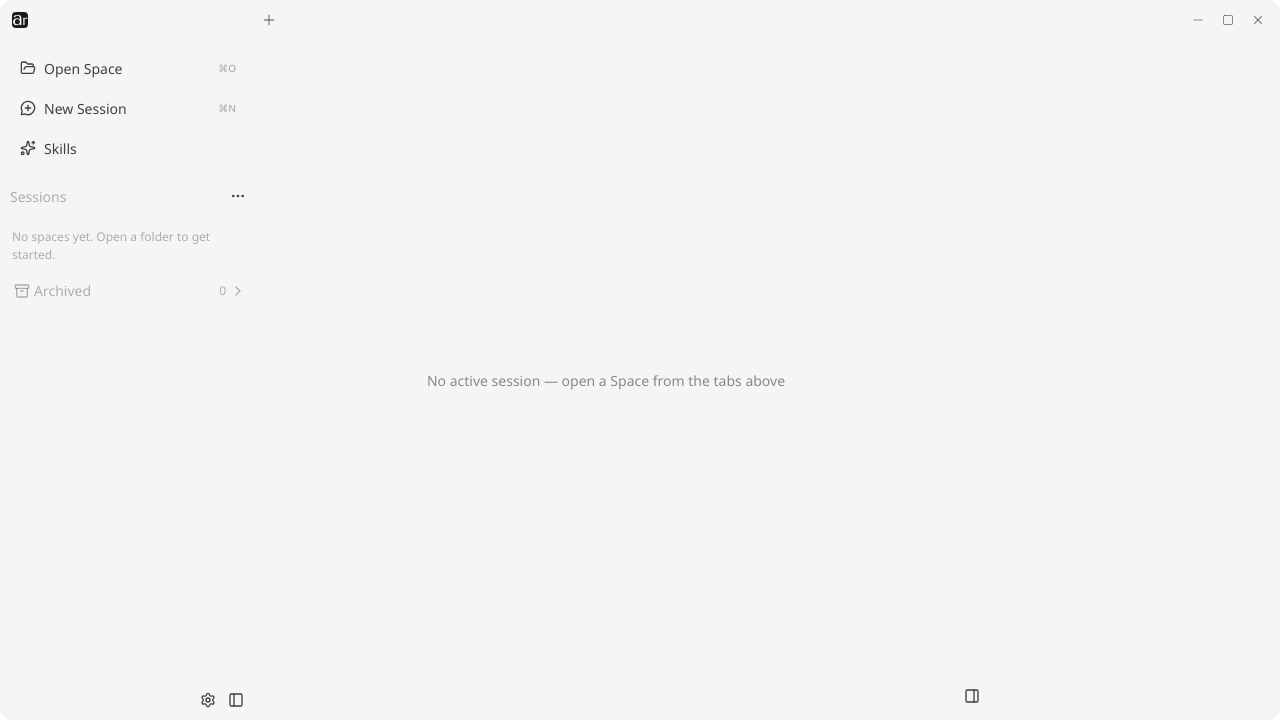
Test case: App (the gear icon + settings view swap) › the_back_button_returns_to_the_workspace
Click the button named "Settings" at (212,700), box [200,688,224,712]
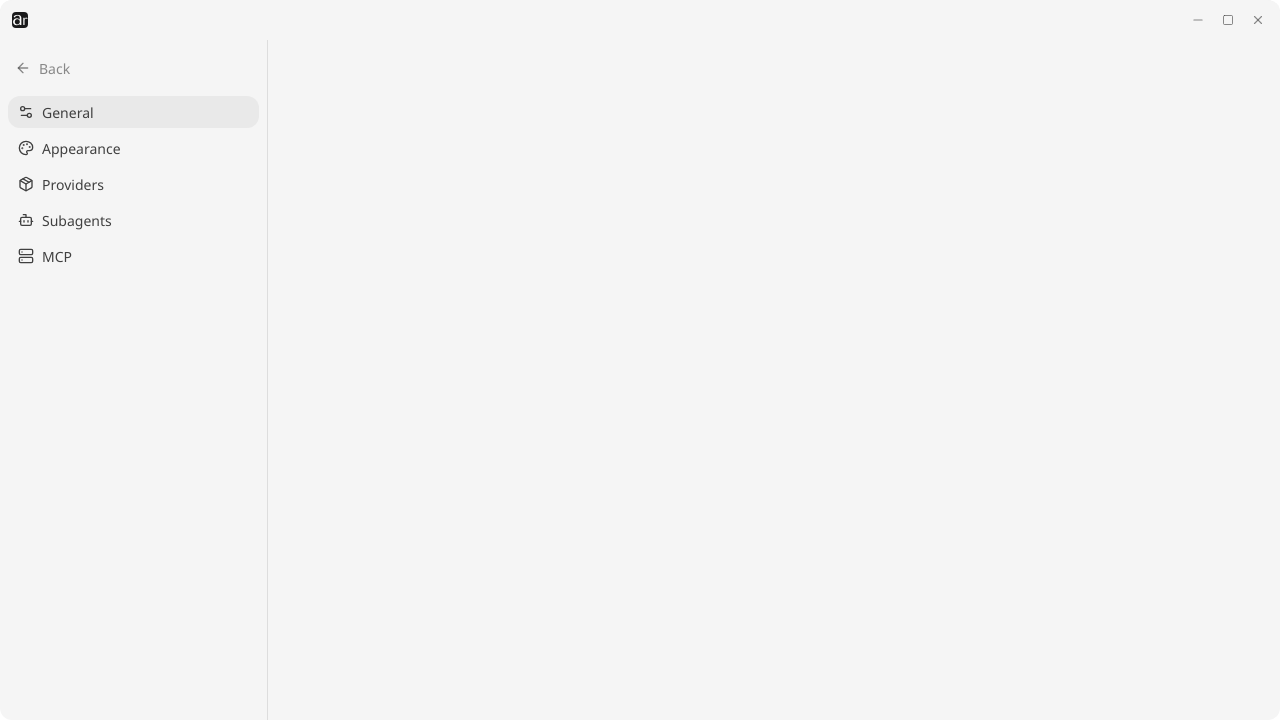
Check: the text "General" is shown, box [42,103,94,122]
Click the button "Back" at (130,68), box [8,52,251,84]
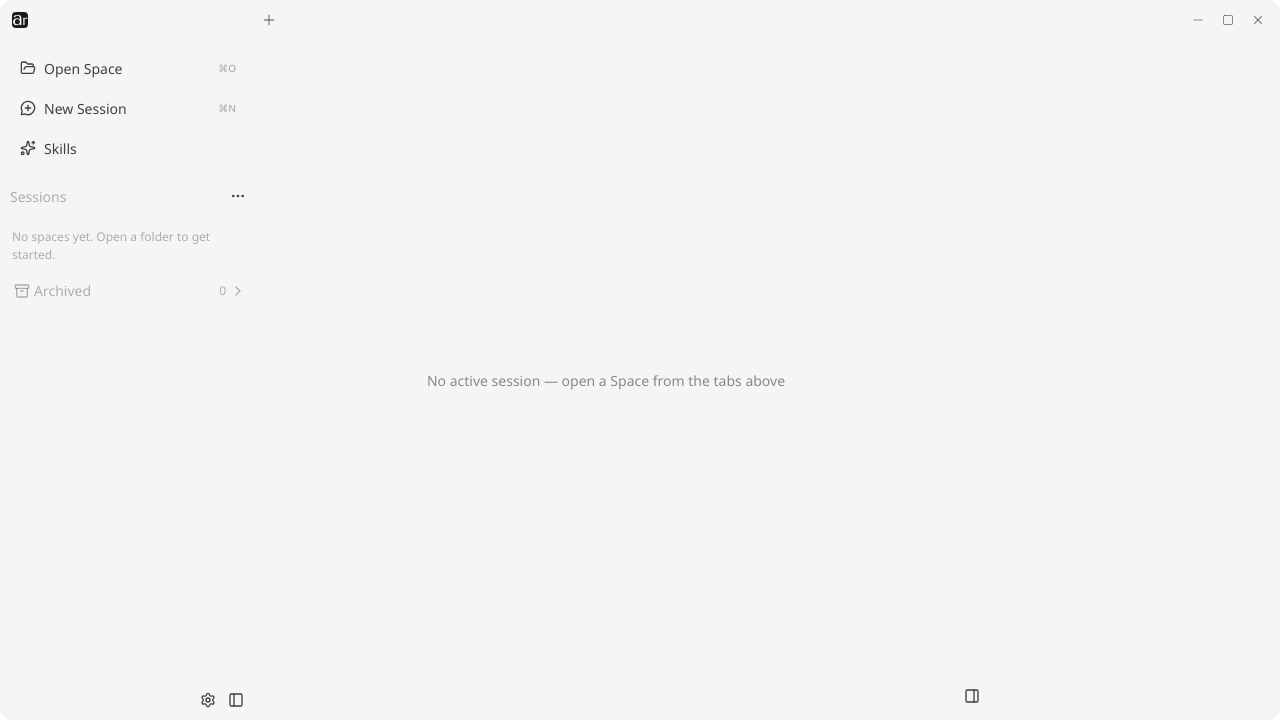
Check: the text "Sessions" is shown, box [10,186,66,206]
